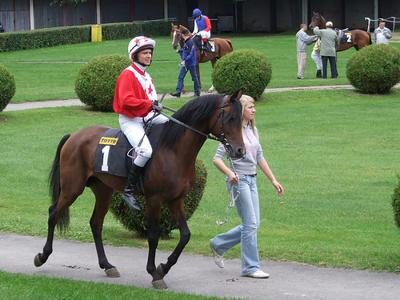person: (114, 36, 172, 213)
